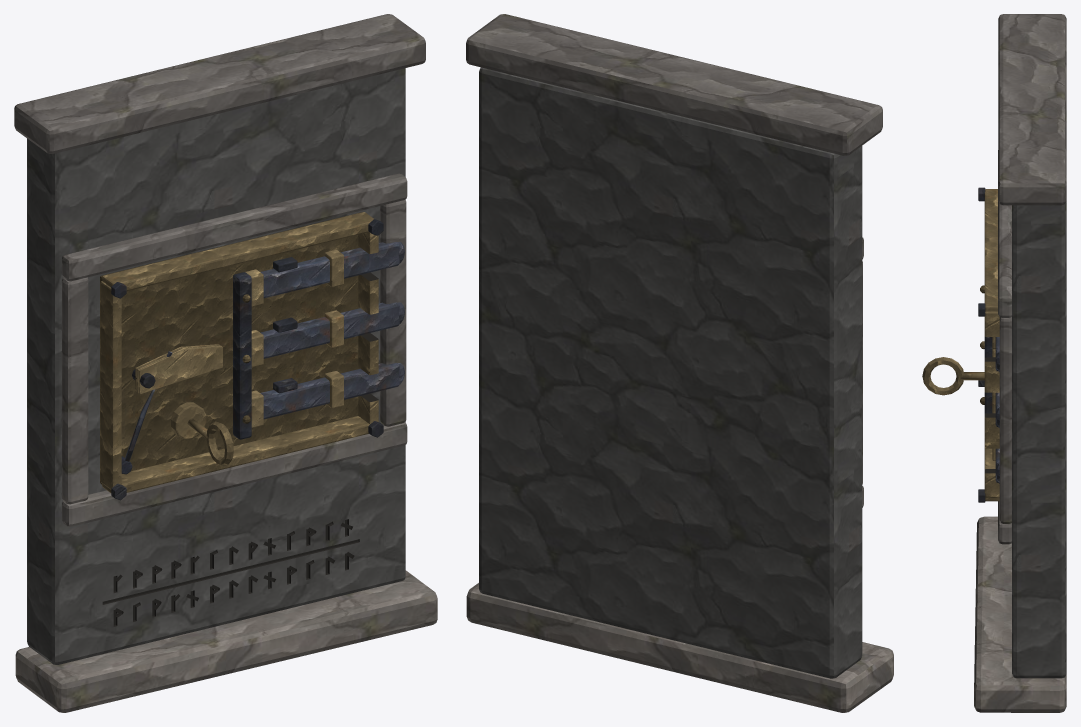
Rendered from bv_lock_works.glb.
3 views of the same model, side by side, from view 1: azimuth 30°, elevation 25°; view 2: azimuth 150°, elevation 25°; view 3: azimuth 270°, elevation 25° (orthographic). The views are drawn at different scales.
Visible parts, largest first — view 1: model; view 2: model; view 3: model.
Boxes of the visible parts, x1,y1,x2,y2 form: model: [14, 14, 437, 712]; model: [466, 14, 893, 712]; model: [922, 14, 1066, 712].
Bounding box in the file's own units: 1.18 × 1.72 × 0.422.
Materials: 10 (9 with a texture image).
